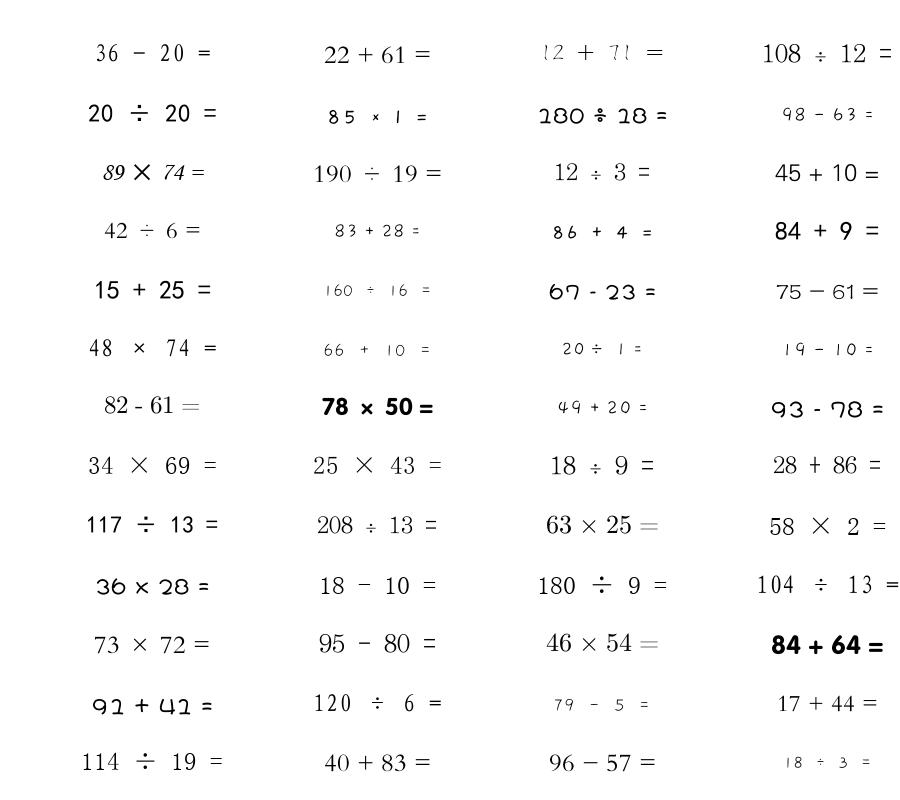MQ: (756, 575, 899, 594), (762, 43, 892, 63), (81, 752, 223, 770), (88, 104, 217, 123), (537, 576, 667, 594), (319, 633, 436, 653), (313, 165, 442, 183), (88, 339, 217, 357), (88, 456, 217, 474), (313, 456, 442, 474), (313, 694, 442, 712), (771, 635, 884, 655), (86, 516, 218, 533), (537, 107, 668, 124), (94, 280, 211, 299), (317, 516, 437, 534), (546, 515, 659, 534), (546, 633, 659, 652), (322, 397, 433, 416), (540, 44, 664, 61), (94, 44, 211, 62), (769, 517, 886, 535), (94, 636, 210, 654), (550, 455, 654, 475), (92, 698, 213, 715), (319, 577, 436, 594), (775, 221, 879, 240), (95, 578, 210, 595), (773, 456, 881, 474), (324, 46, 431, 64), (324, 754, 431, 772), (549, 754, 656, 772), (771, 401, 884, 418), (775, 164, 880, 182), (549, 283, 656, 300), (101, 164, 204, 181), (554, 163, 650, 181), (104, 396, 200, 414), (777, 695, 878, 712), (104, 222, 201, 239), (326, 109, 429, 124), (776, 284, 879, 299), (323, 343, 432, 357), (551, 225, 654, 239), (323, 284, 432, 297), (781, 107, 874, 122), (781, 342, 874, 357), (553, 698, 651, 712), (557, 400, 648, 415), (334, 224, 421, 238), (783, 756, 872, 769), (561, 342, 643, 356)
